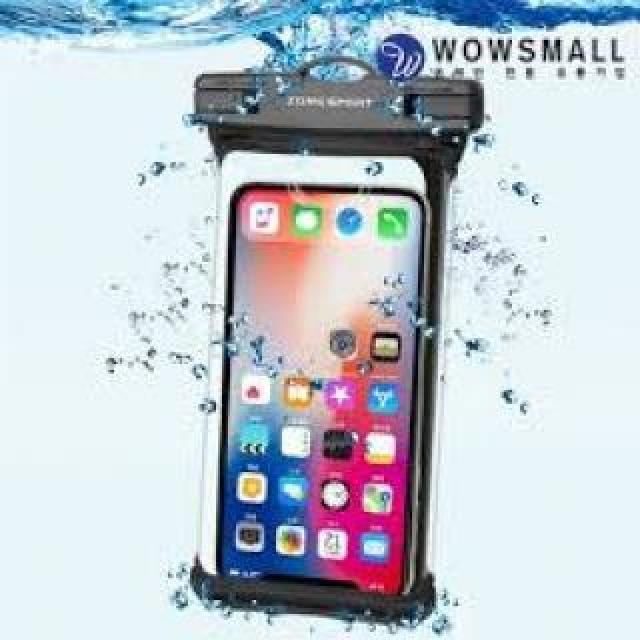smart phone: (192, 40, 445, 640)
